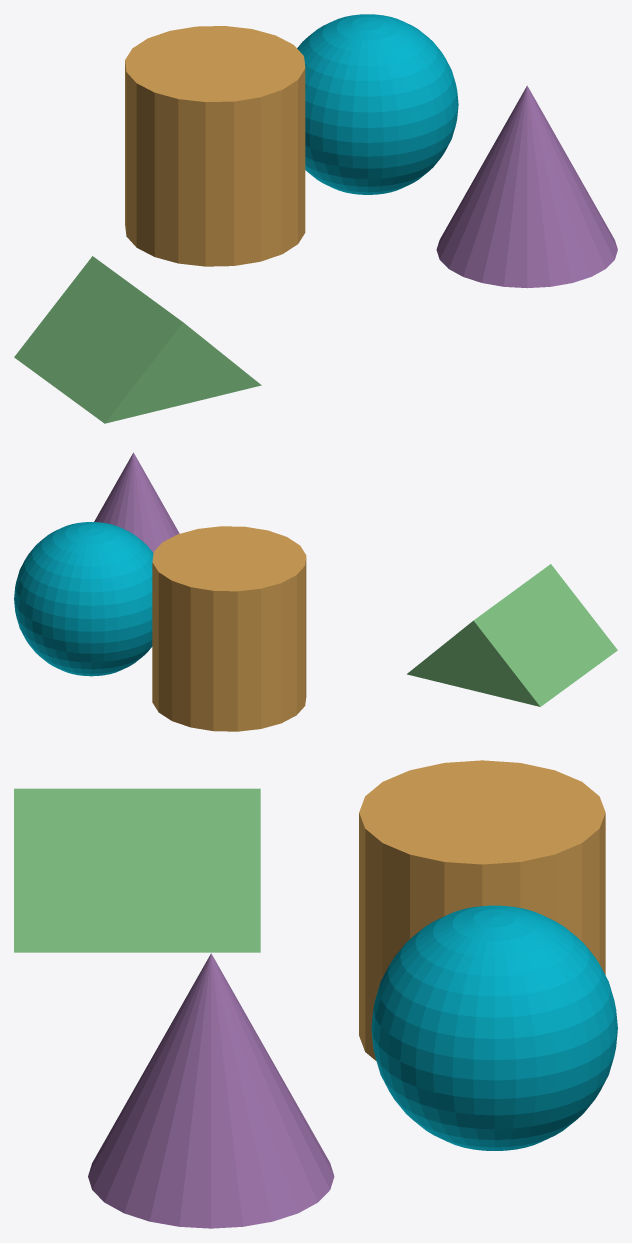
The picture shows the model from 3 angles, top to bottom: view 1: azimuth 30°, elevation 25°; view 2: azimuth 150°, elevation 25°; view 3: azimuth 270°, elevation 25°; orthographic projection. The views are drawn at different scales.
Visible parts, largest first — view 1: Mesh_Mesh_head_geo.001_lambert2SG.001; view 2: Mesh_Mesh_head_geo.001_lambert2SG.001; view 3: Mesh_Mesh_head_geo.001_lambert2SG.001.
Boxes of the visible parts, x1=… form: Mesh_Mesh_head_geo.001_lambert2SG.001: x1=14, y1=14, x2=617, y2=423; Mesh_Mesh_head_geo.001_lambert2SG.001: x1=14, y1=452, x2=617, y2=731; Mesh_Mesh_head_geo.001_lambert2SG.001: x1=14, y1=760, x2=617, y2=1228.
Size of the model in its own units: 73 by 20 by 49.
